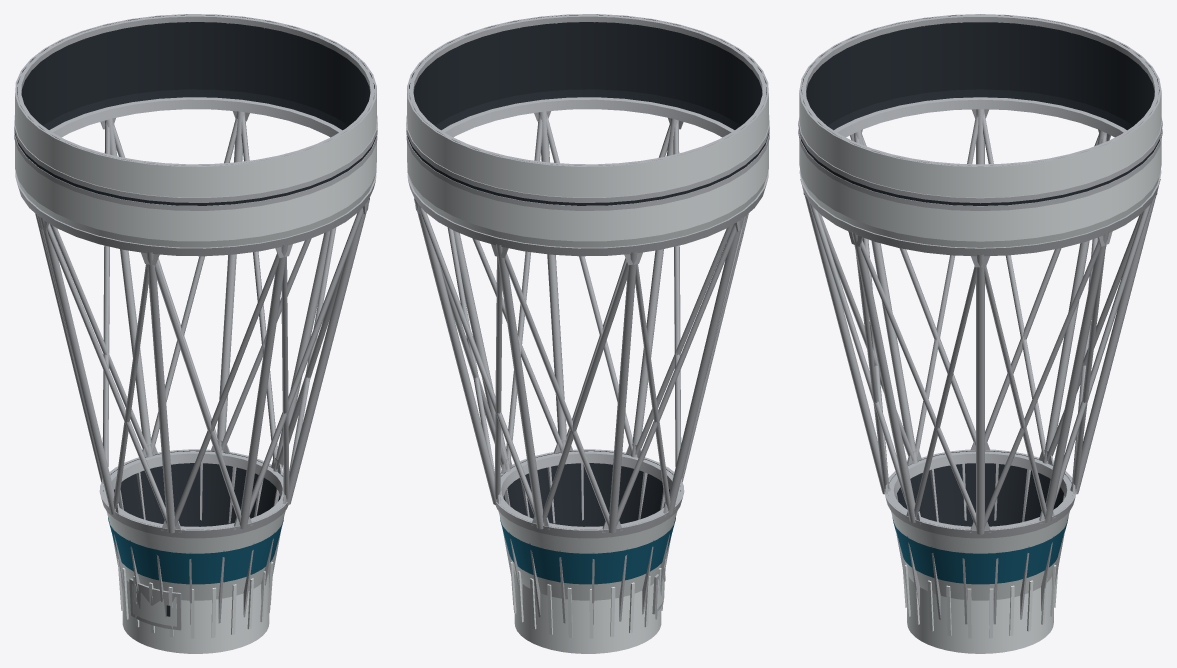
The model's file is interstage_hot_staging_d15_to_d37.glb.
3 views of the same model, side by side, from view 1: azimuth 30°, elevation 25°; view 2: azimuth 150°, elevation 25°; view 3: azimuth 270°, elevation 25° (orthographic).
Parts seen in each view (by area): view 1: interstage_hot_staging_d15_to_d37_mesh; view 2: interstage_hot_staging_d15_to_d37_mesh; view 3: interstage_hot_staging_d15_to_d37_mesh.
Part boxes in pixels (box(x1,y1,x2,y2)): interstage_hot_staging_d15_to_d37_mesh: box(14, 14, 377, 653); interstage_hot_staging_d15_to_d37_mesh: box(406, 14, 769, 653); interstage_hot_staging_d15_to_d37_mesh: box(798, 14, 1162, 653).
Size of the model in its own units: 3.72 by 6 by 3.72.
